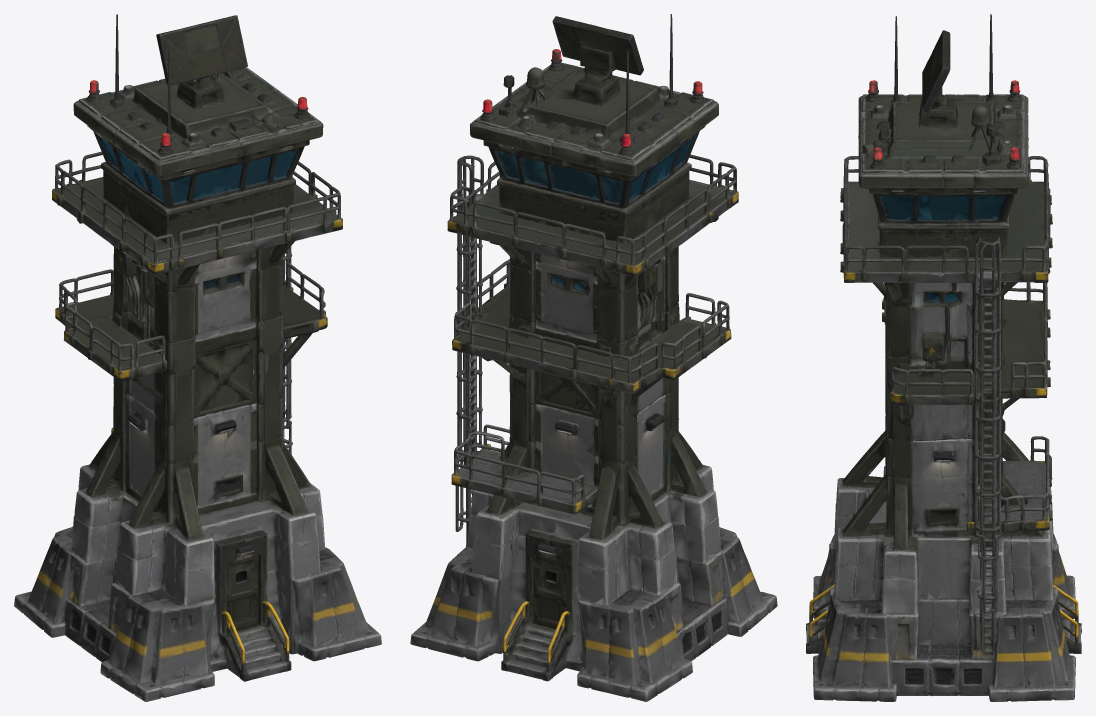
File: gt_sentinel.glb
3 views of the same model, side by side, from view 1: azimuth 30°, elevation 25°; view 2: azimuth 150°, elevation 25°; view 3: azimuth 270°, elevation 25° (orthographic).
Visible parts, largest first — view 1: gt_sentinel; view 2: gt_sentinel; view 3: gt_sentinel.
Part boxes in pixels (x1=…): gt_sentinel: x1=14, y1=14, x2=381, y2=701; gt_sentinel: x1=410, y1=14, x2=777, y2=701; gt_sentinel: x1=806, y1=14, x2=1081, y2=701.
Size of the model in its own units: 0.8065 by 1.9 by 0.791.
Materials: 1 (1 with a texture image).
